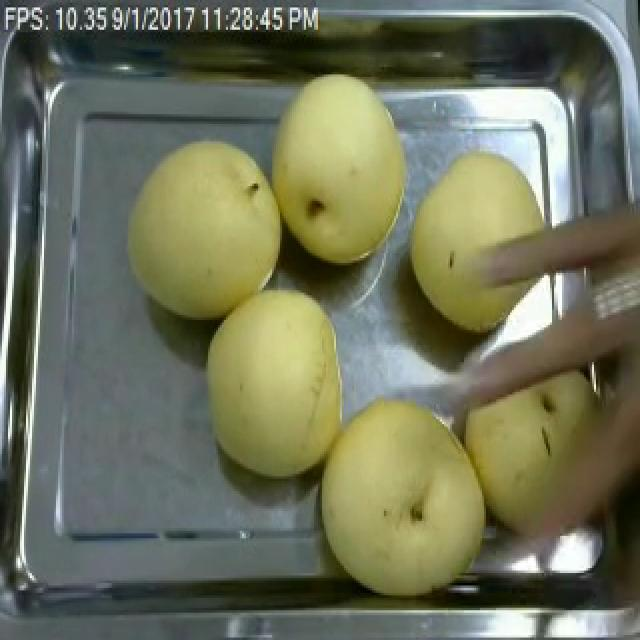Fruit: (304, 377, 514, 610), (390, 136, 550, 352), (118, 126, 288, 328), (198, 280, 358, 484), (268, 69, 422, 278)
